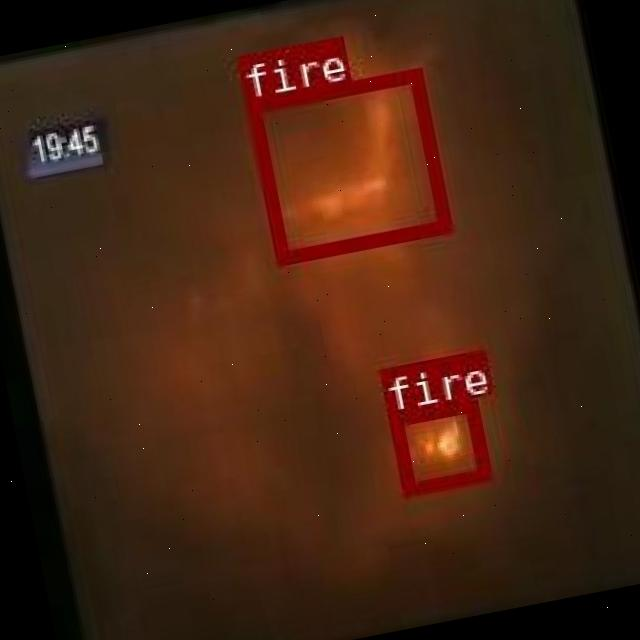fire: (244, 68, 449, 262), (386, 396, 488, 494)
